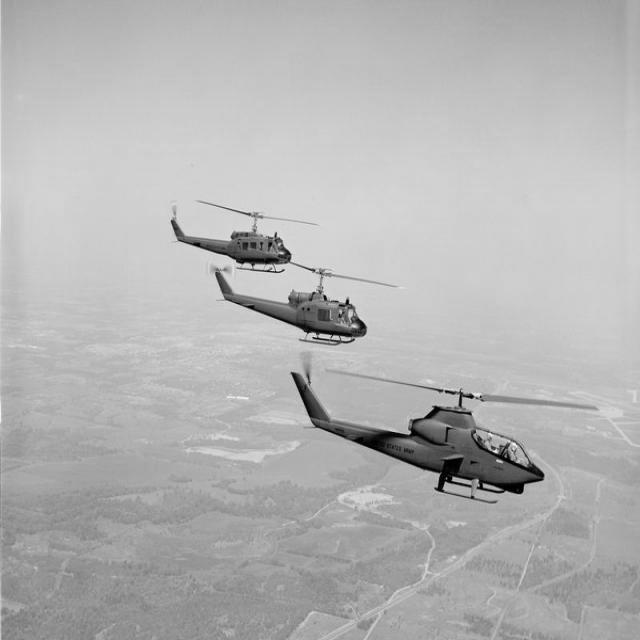helikopter: (298, 364, 604, 520), (164, 186, 332, 276), (228, 272, 410, 342)
